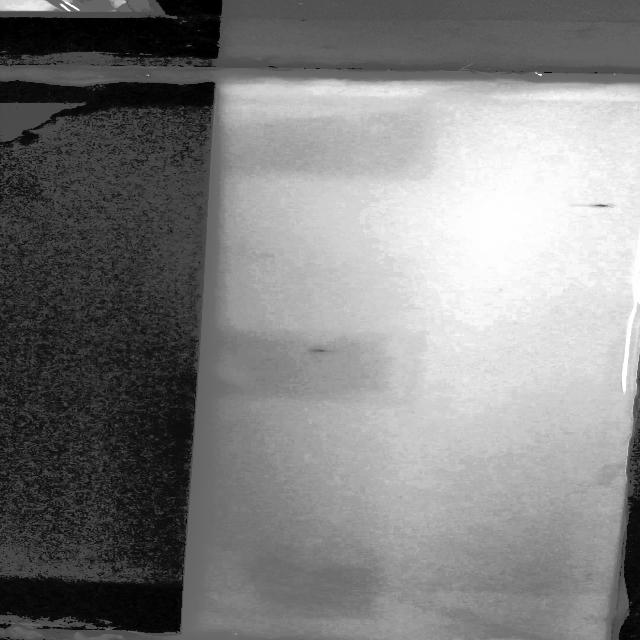shrimp: (577, 198, 619, 213), (306, 344, 334, 359)
